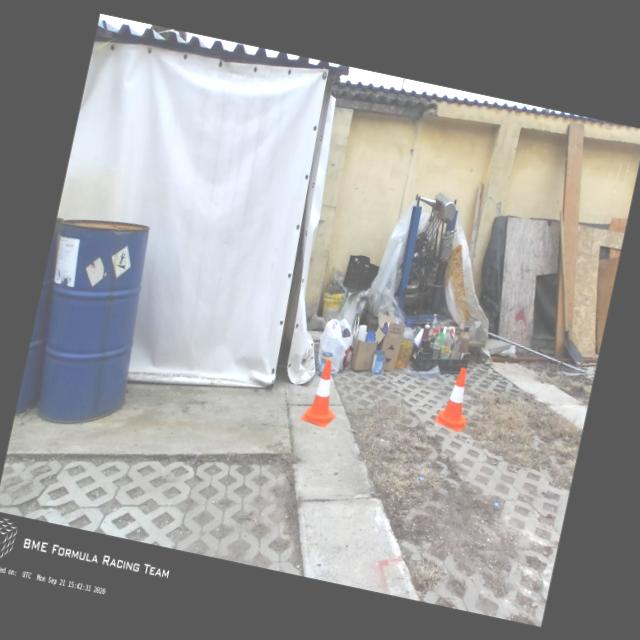orange_cone: (299, 357, 346, 428), (434, 364, 477, 432)
